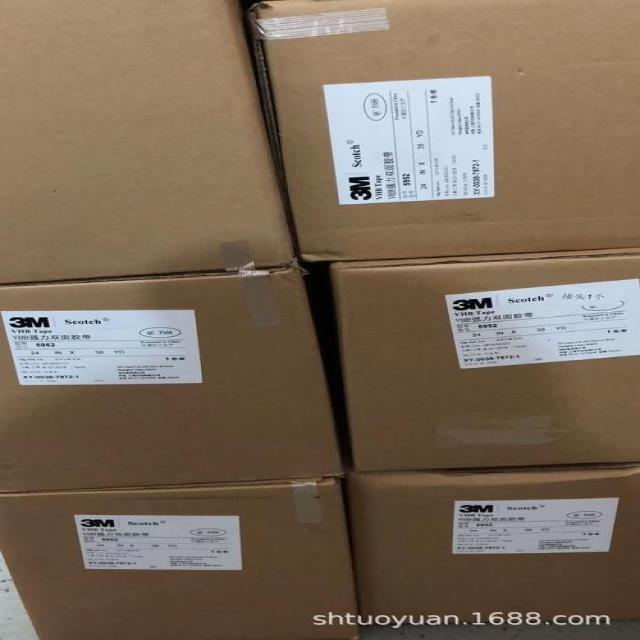box: (242, 0, 640, 263), (0, 263, 348, 493), (324, 247, 640, 472), (0, 477, 362, 640), (348, 462, 639, 625)
